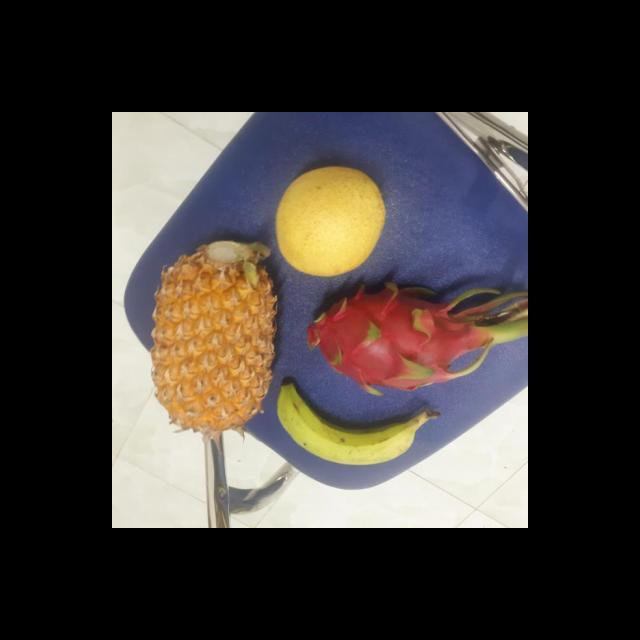banana: (275, 383, 423, 466)
pear: (273, 166, 388, 278)
pineapple: (150, 235, 280, 430)
pitaya: (291, 282, 474, 393)
